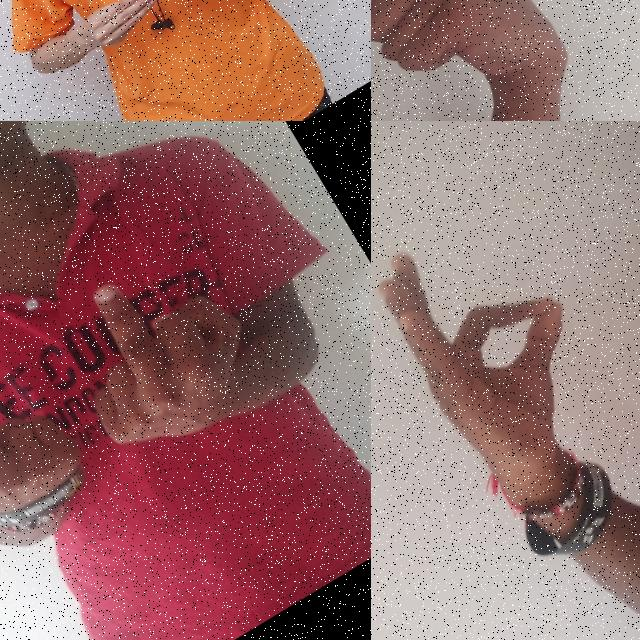Dulya: (371, 0, 575, 121)
Five Fathers: (50, 0, 277, 81)
Middle Finger: (39, 238, 284, 492), (0, 333, 113, 585)
Okay: (371, 186, 640, 546)
